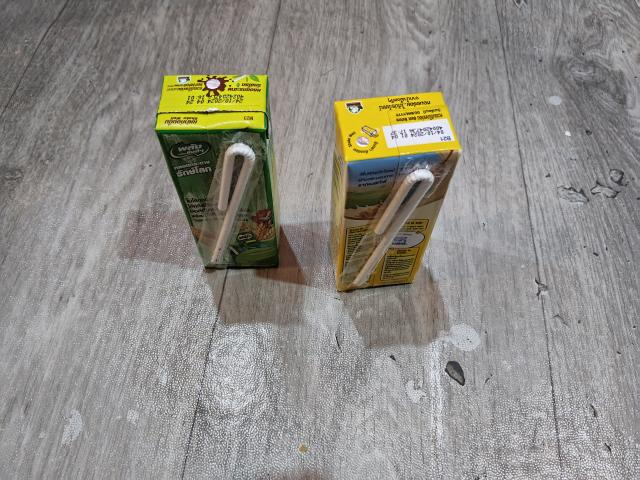drink_box: (321, 84, 468, 297), (150, 66, 290, 273)
